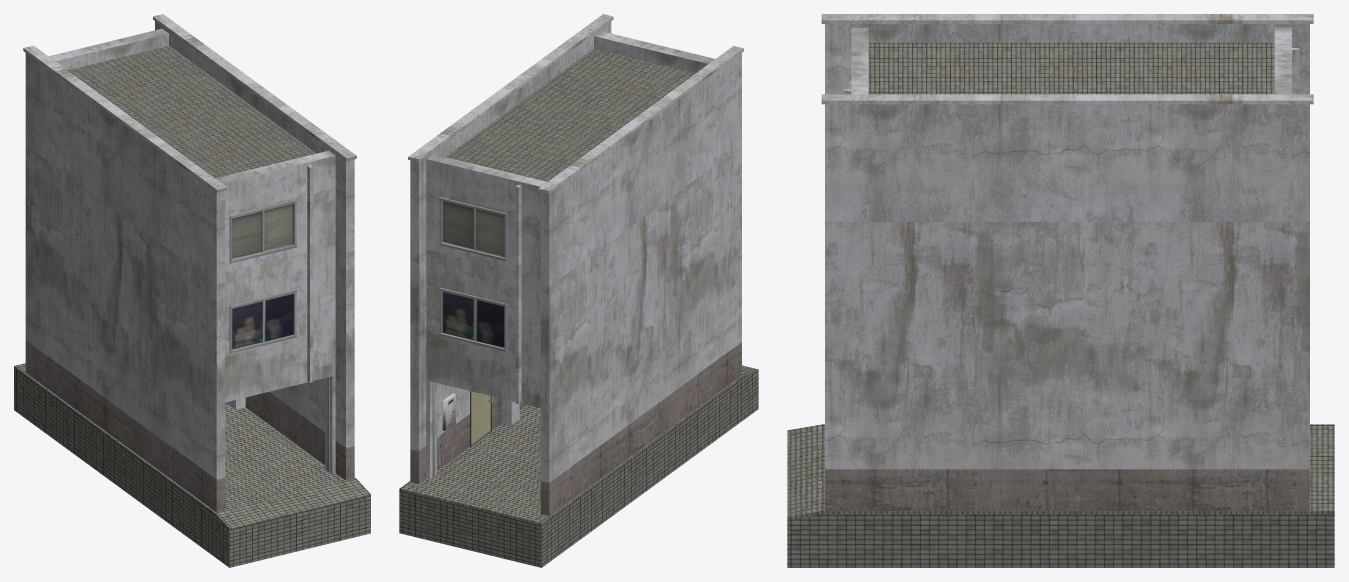
Rendered from mallbil_s_b1b.fbx.
3 renders of one model, left to right at view 1: azimuth 30°, elevation 25°; view 2: azimuth 150°, elevation 25°; view 3: azimuth 270°, elevation 25°, orthographic. The views are drawn at different scales.
Visible parts, largest first — view 1: mallbil_s_b1b; view 2: mallbil_s_b1b; view 3: mallbil_s_b1b.
Part boxes in pixels (x1,y1,x2,y2): mallbil_s_b1b: (14,14,370,567); mallbil_s_b1b: (399,14,758,567); mallbil_s_b1b: (787,14,1334,567).
Bounding box in the file's own units: 433 × 1144 × 1078.
Materials: 6 (6 with a texture image).
